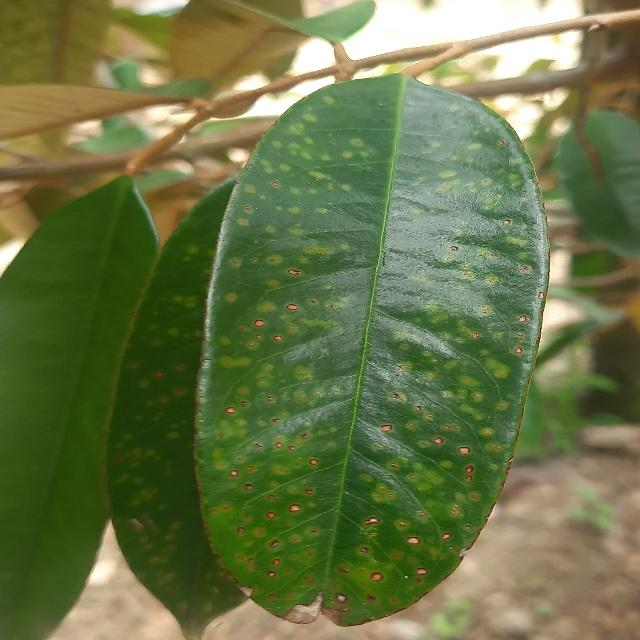Leaf Spot: (99, 65, 555, 640)
